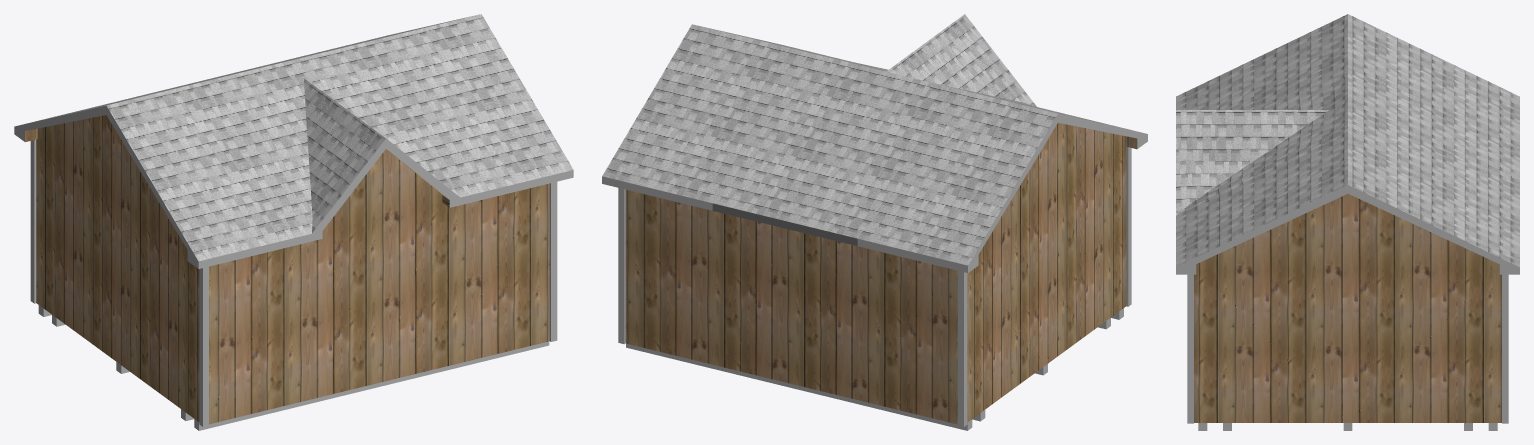
Rendered from Victorian Shed_12x14.obj.
3 renders of one model, left to right at view 1: azimuth 30°, elevation 25°; view 2: azimuth 150°, elevation 25°; view 3: azimuth 270°, elevation 25°, orthographic. The views are drawn at different scales.
Visible parts, largest first — view 1: Shed, Roof, Sides, Trim, Floor; view 2: Shed, Roof, Sides, Trim, Floor; view 3: Shed, Roof, Sides, Trim, Floor.
Part boxes in pixels (bbox=[...]): Shed: bbox=[25, 115, 549, 424]; Roof: bbox=[24, 14, 573, 261]; Sides: bbox=[14, 105, 573, 268]; Trim: bbox=[30, 139, 557, 426]; Floor: bbox=[38, 305, 549, 430]; Shed: bbox=[625, 123, 1137, 424]; Roof: bbox=[602, 14, 1141, 265]; Sides: bbox=[602, 113, 1147, 272]; Trim: bbox=[618, 146, 1131, 426]; Floor: bbox=[626, 308, 1123, 430]; Shed: bbox=[1194, 194, 1501, 422]; Roof: bbox=[1176, 14, 1519, 267]; Sides: bbox=[1176, 185, 1519, 274]; Trim: bbox=[1187, 274, 1508, 423]; Floor: bbox=[1198, 423, 1497, 430].
Bounding box in the file's own units: 4.57 × 3.14 × 3.89.
